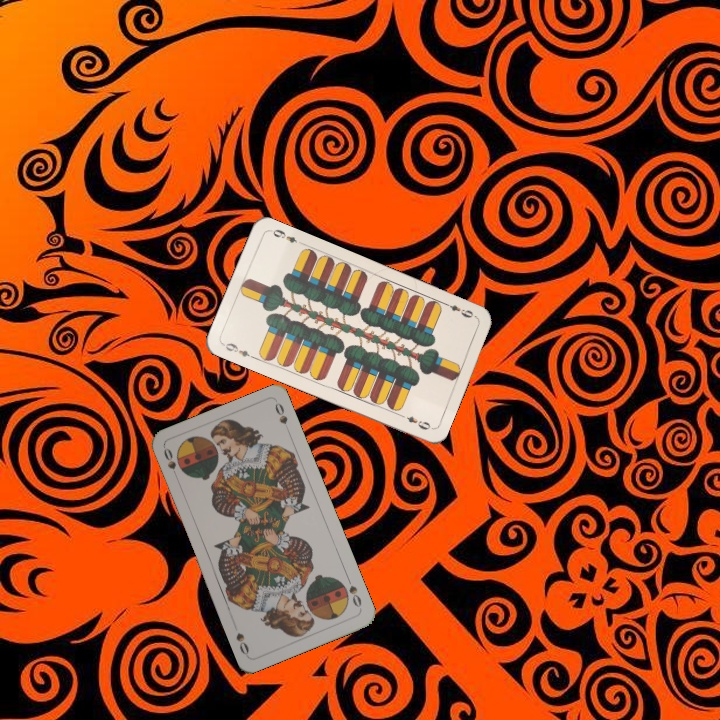E9: (219, 339, 258, 361), (440, 299, 479, 321)
SO: (159, 444, 182, 483), (343, 573, 364, 612)
